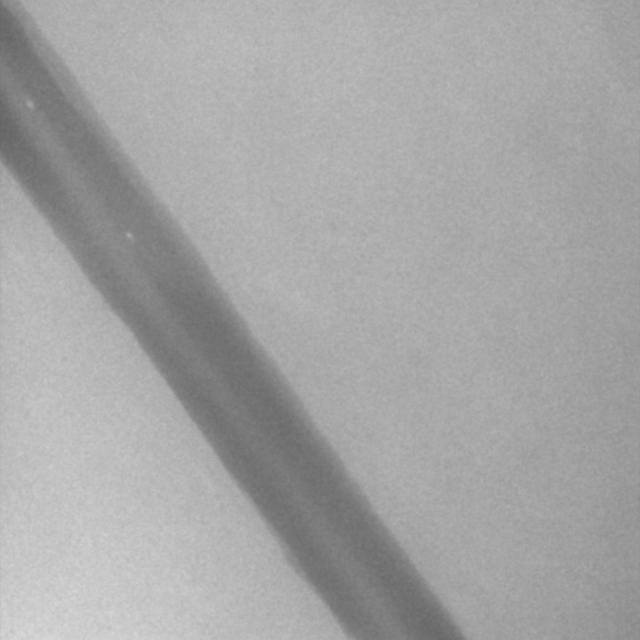air hole: (123, 228, 133, 240), (25, 98, 35, 110)
